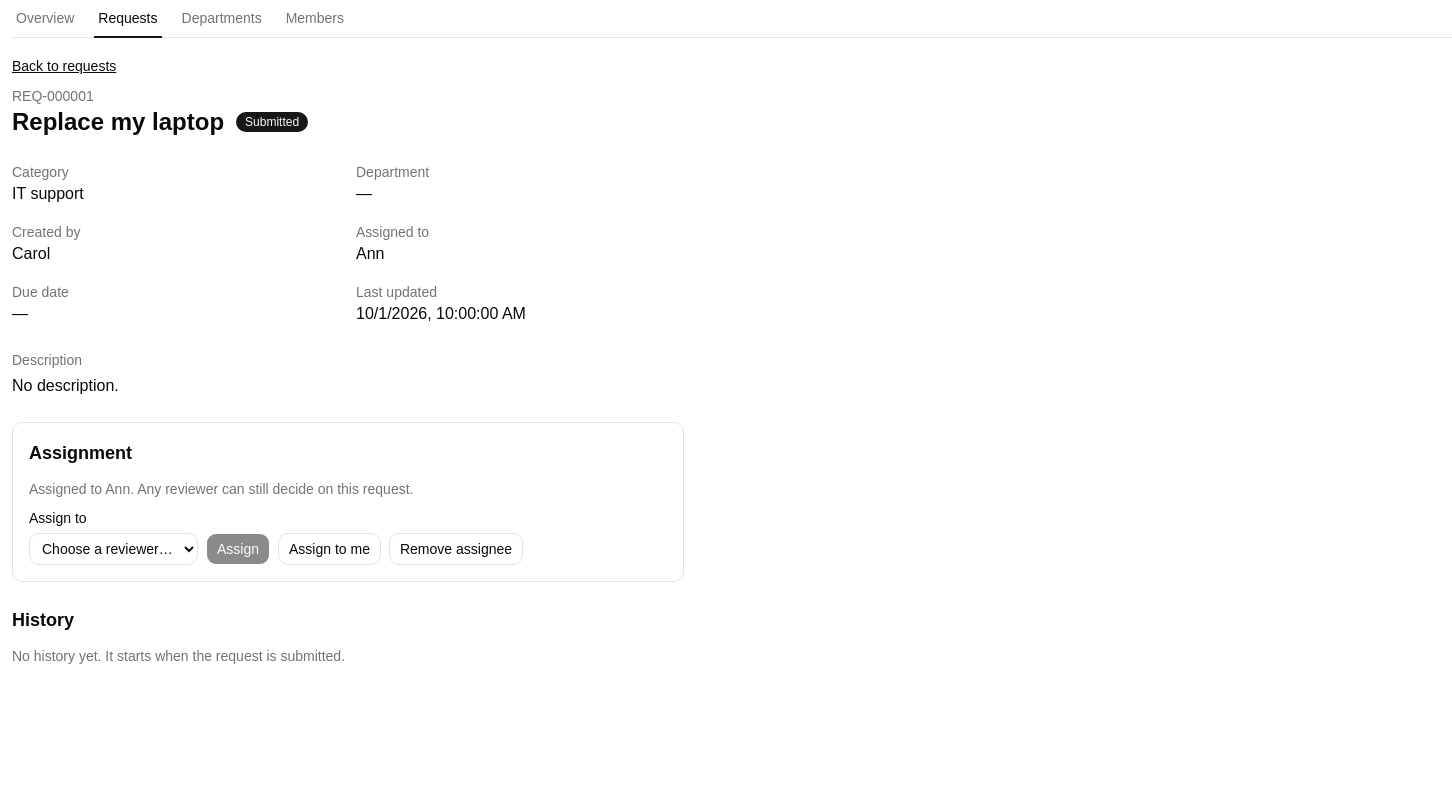
Scenario: AssignmentPanel › assigns to the viewer with one click
Step 1. Click the button "Assign to me" → (329, 549), box [278, 533, 381, 565]
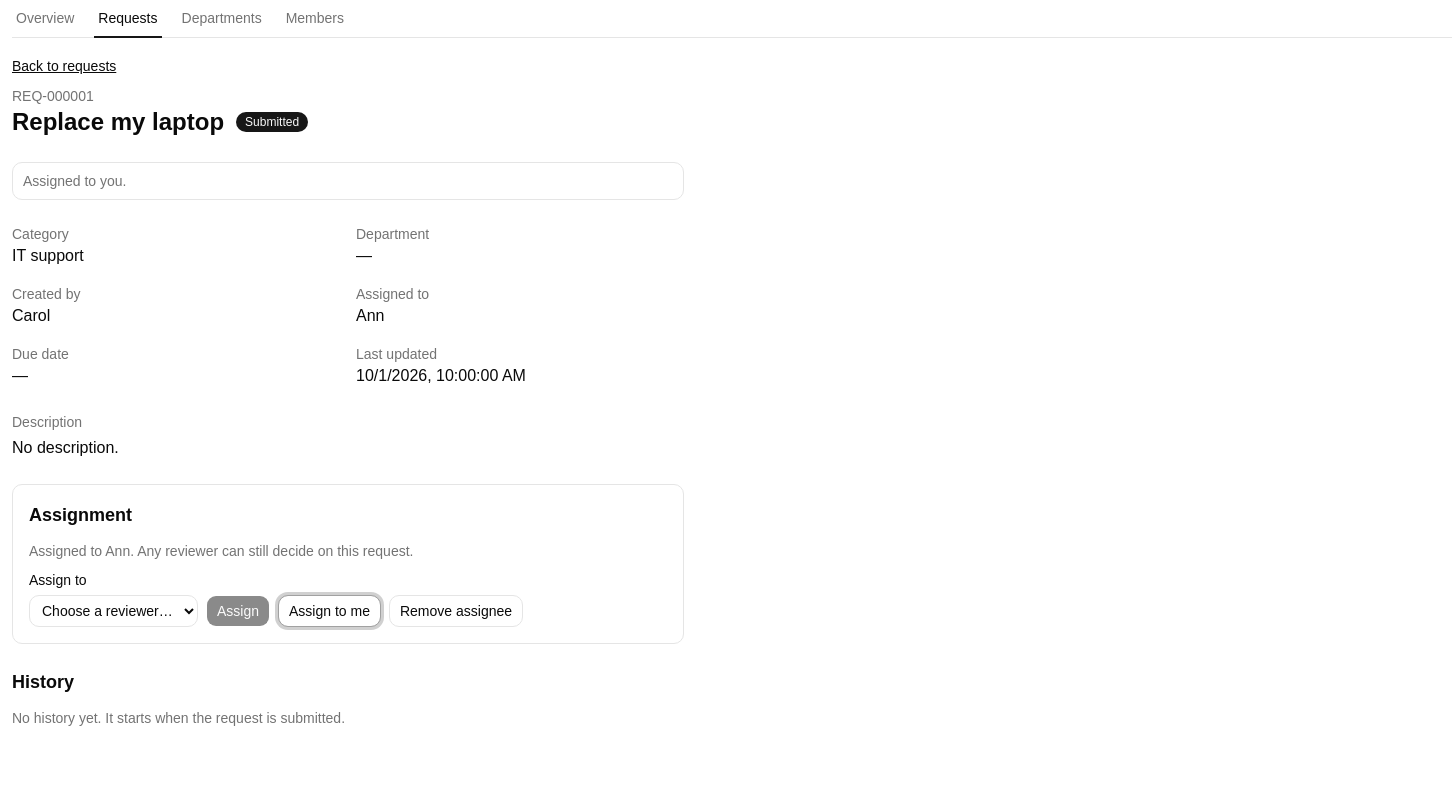
Expected: the text "Assigned to you." is shown, [23, 173, 126, 189]
